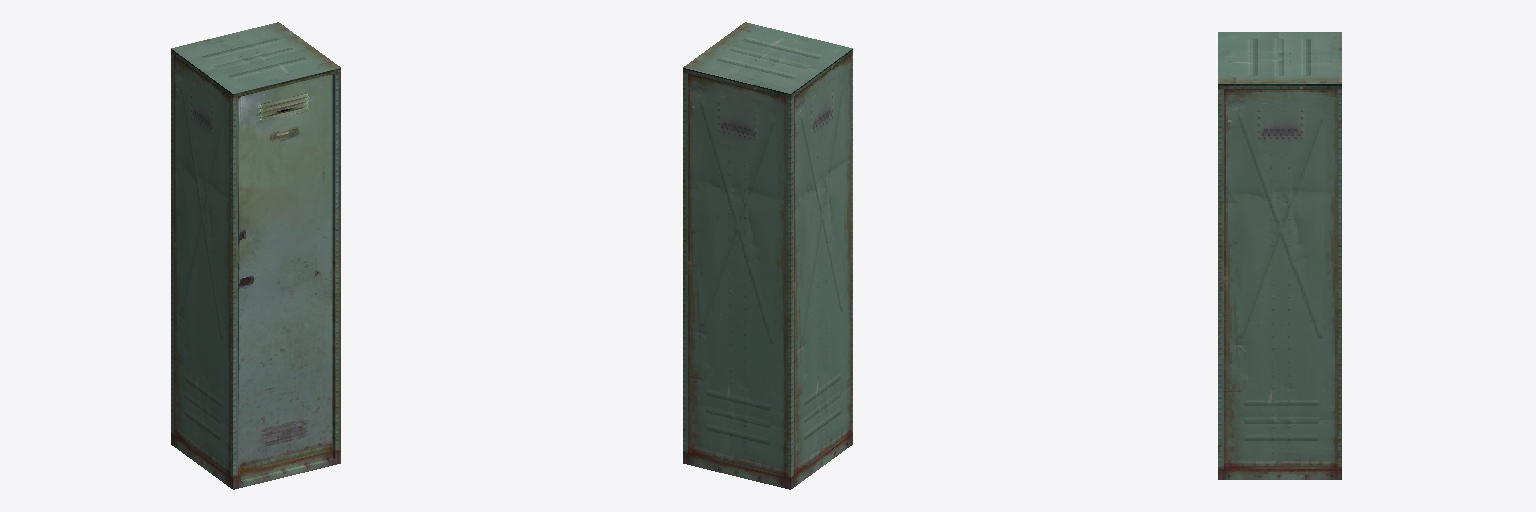
The picture shows the model from 3 angles: view 1: azimuth 30°, elevation 25°; view 2: azimuth 150°, elevation 25°; view 3: azimuth 270°, elevation 25°; orthographic projection.
Parts seen in each view (by area): view 1: Cube; view 2: Cube; view 3: Cube.
Part boxes in pixels (left/top/right/bottom): Cube: left=171, top=22, right=340, bottom=489; Cube: left=683, top=22, right=852, bottom=489; Cube: left=1218, top=32, right=1341, bottom=479.
Size of the model in its own units: 2 by 7 by 2.
Materials: 1 (1 with a texture image).